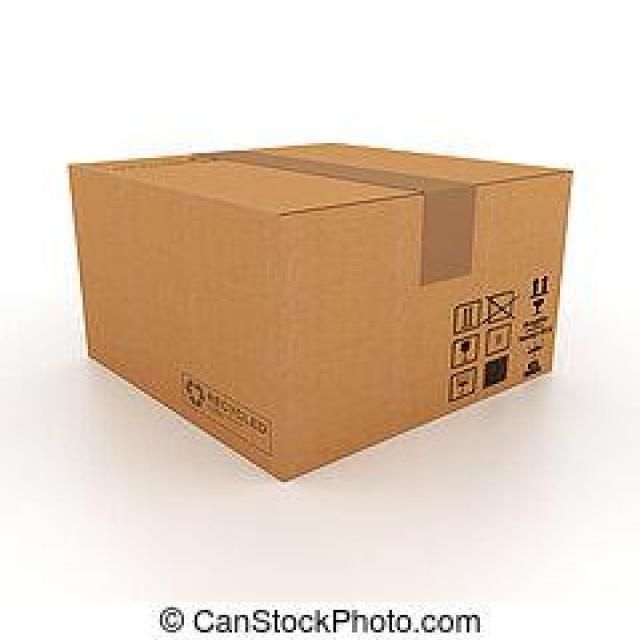box: (62, 135, 574, 489)
